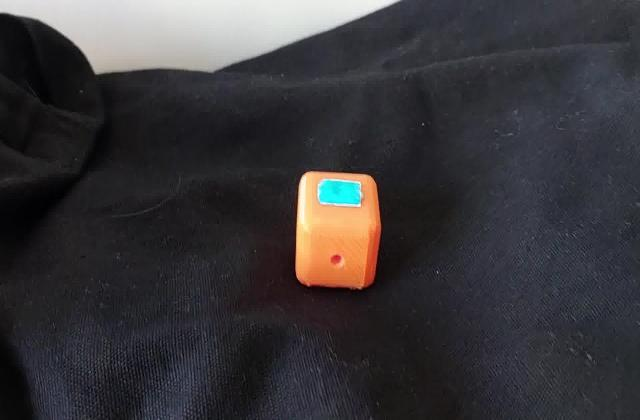blue: (325, 185, 358, 201)
cube: (292, 168, 384, 294)
